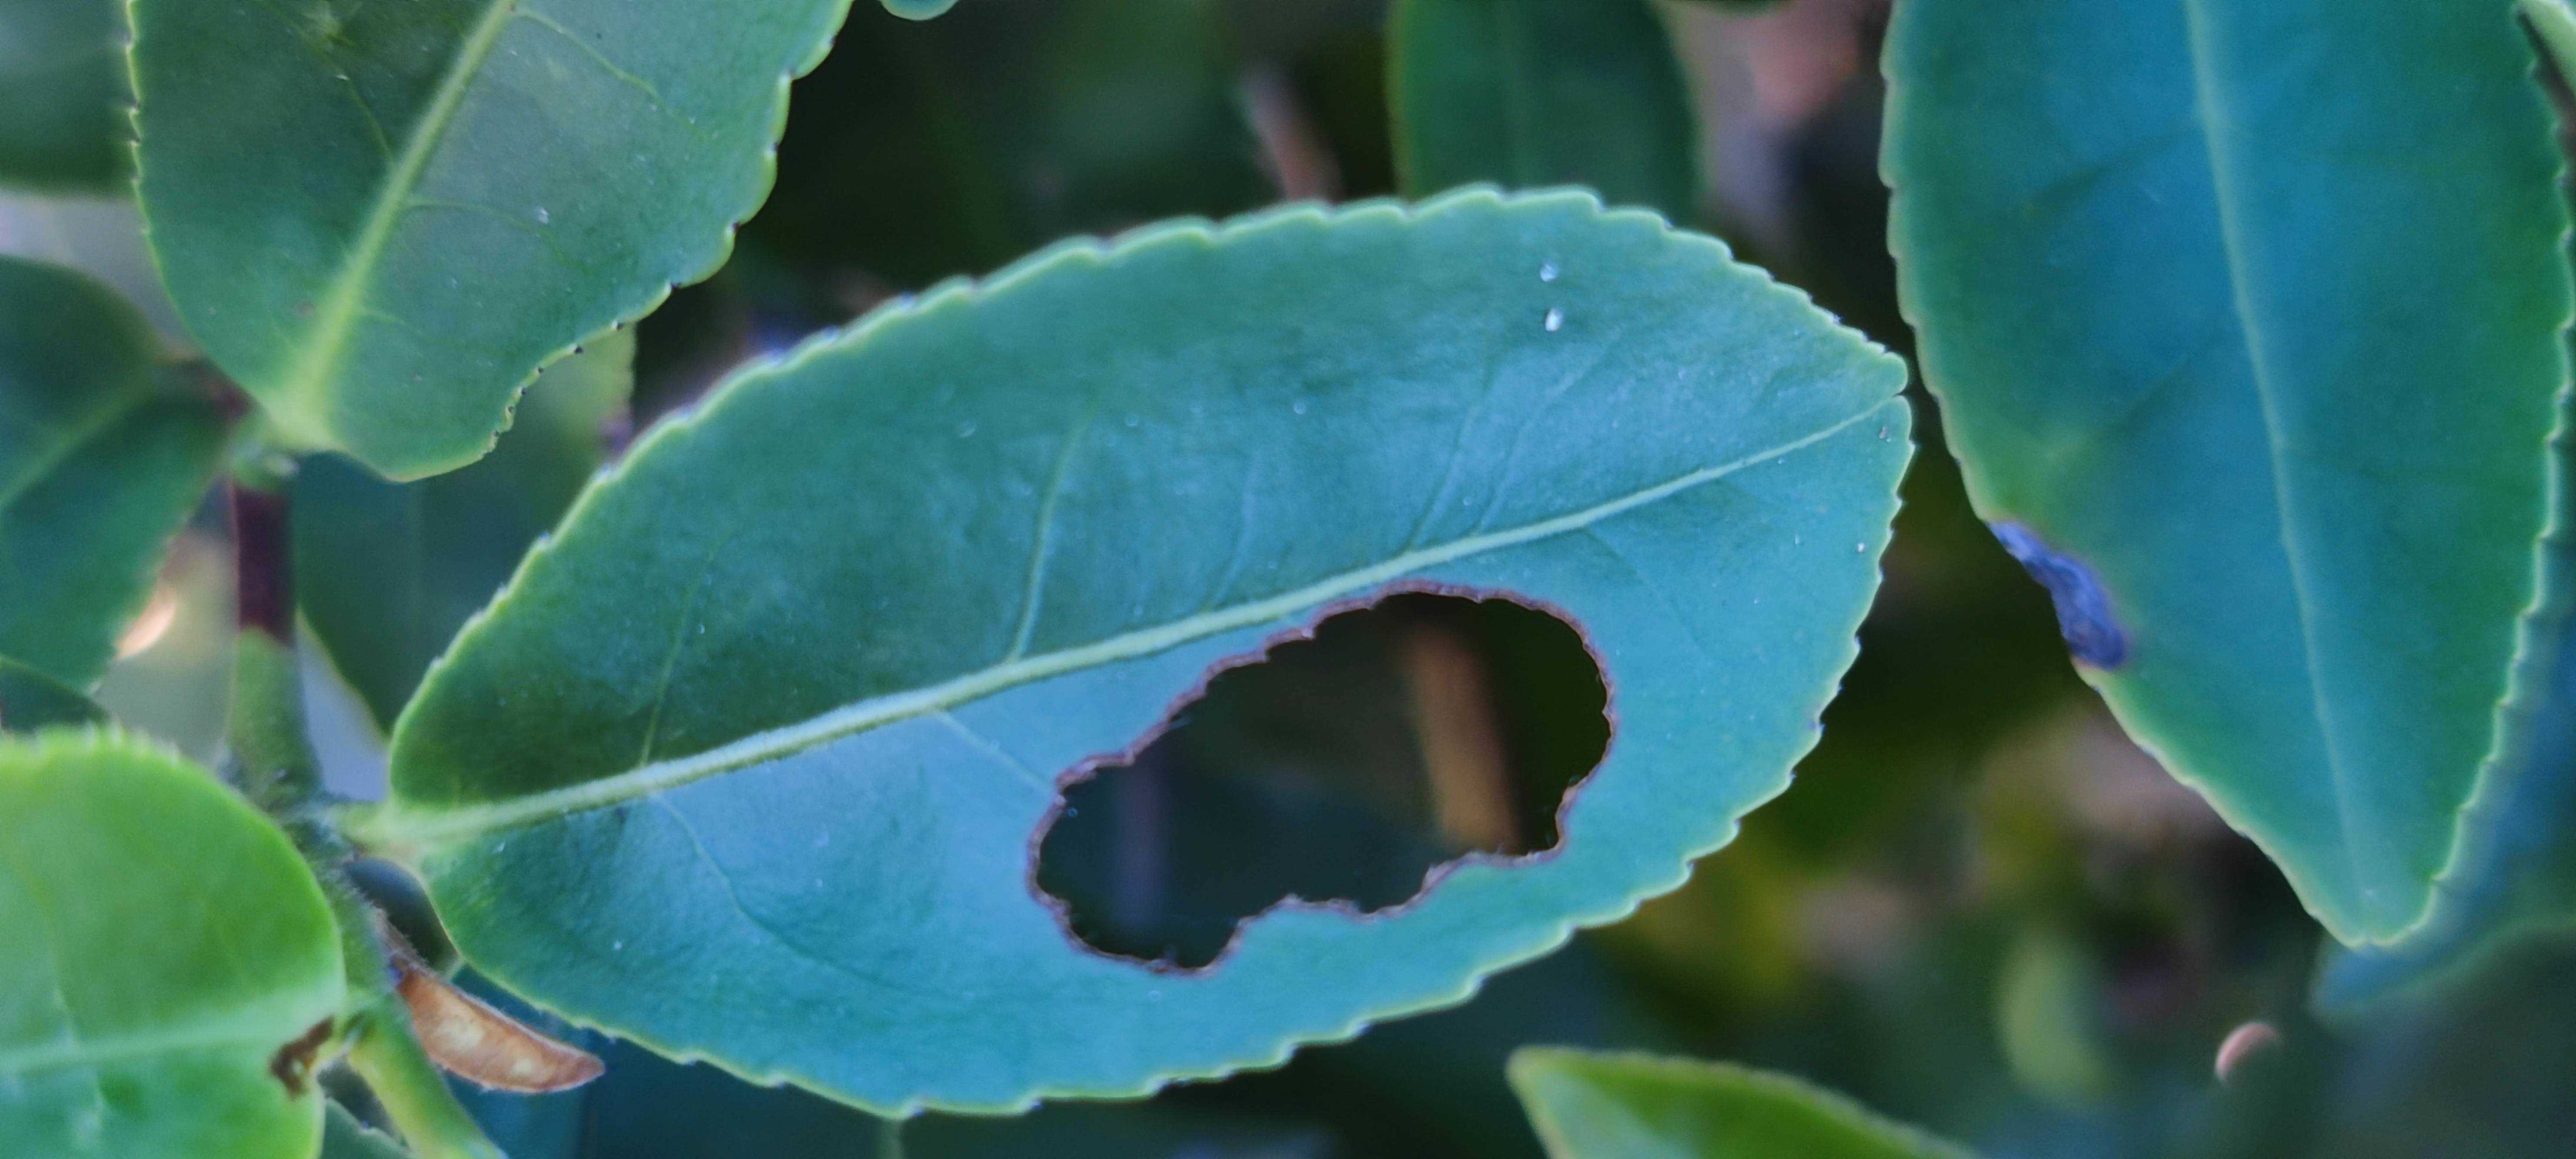chihuo_low: (375, 177, 1927, 1128)
tanju_high: (1870, 0, 2574, 957)
tanju_low: (2, 722, 353, 1152)
